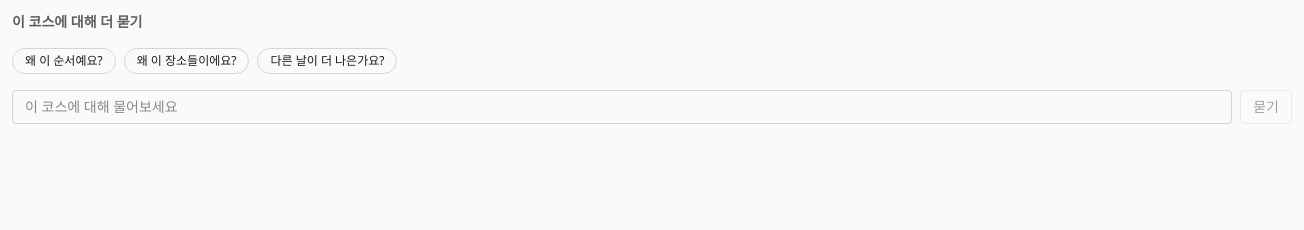
Test: 코스 후속 질문 › citations 가 오면 본문보다 먼저 인용 칩이 보인다
Step 1. Type "왜요?" into the field named "이 코스에 대해 더 묻기" → (622, 107), box [12,90,1232,124]
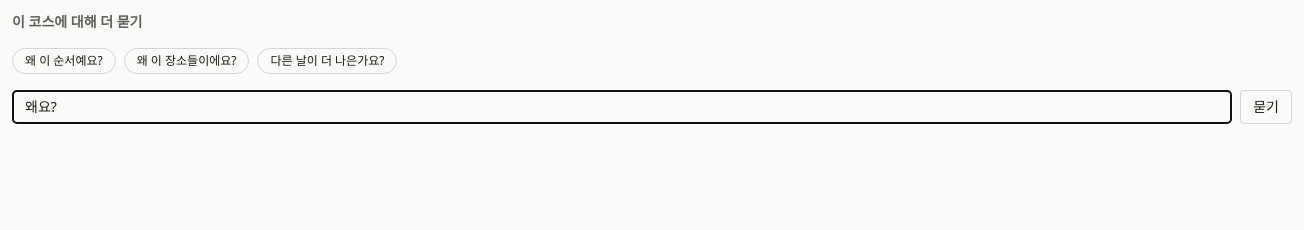
Step 2. Click the button "묻기" → (1266, 107), box [1240,90,1292,124]
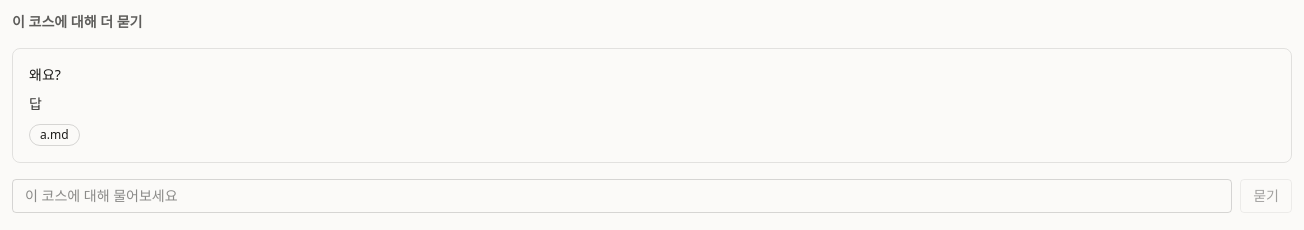
Now the button "a.md" is shown, box [29,124,80,146]
Now the text "답" is shown, box [29,94,42,113]
